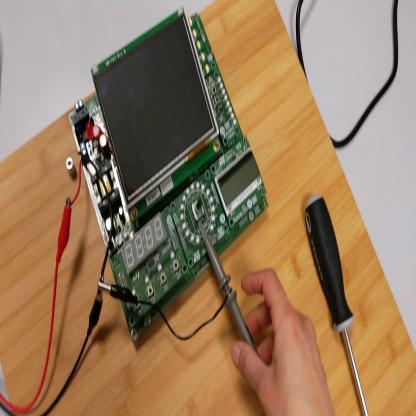hand: (233, 266, 335, 414)
low voltage board: (67, 11, 269, 348)
oscilloscope probe tip: (198, 216, 260, 355)
screwdriver-: (304, 197, 369, 414)
working area: (3, 5, 416, 412)
